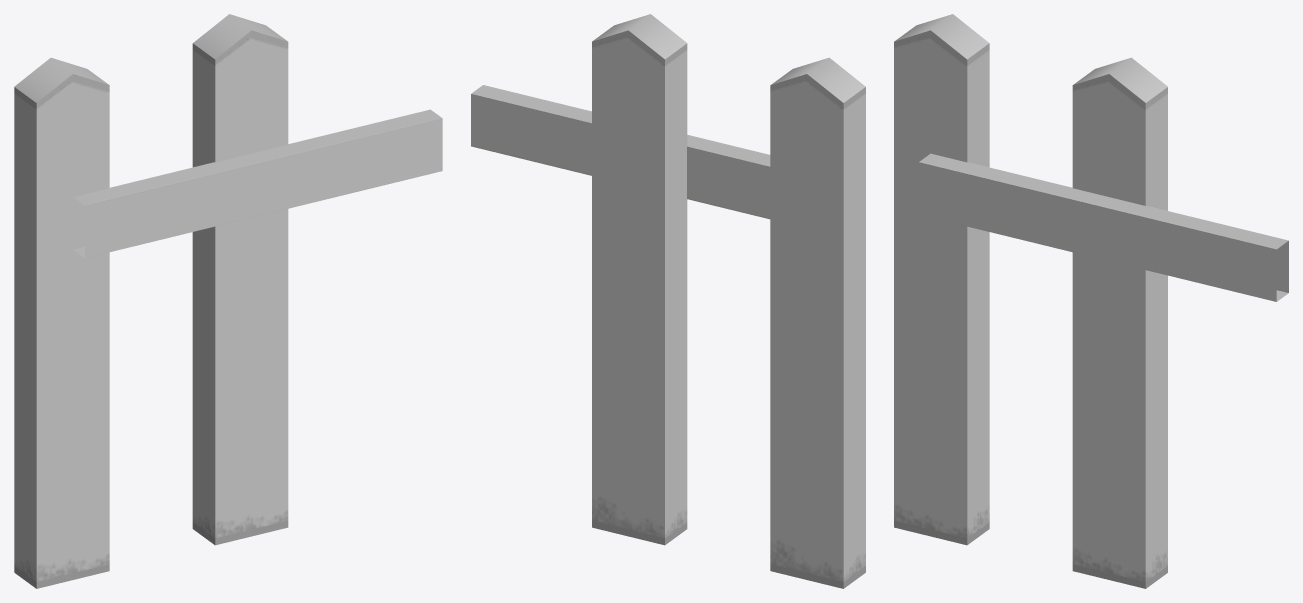
File: city_white_picket_fence_02.glb
3 views of the same model, side by side, from view 1: azimuth 30°, elevation 25°; view 2: azimuth 150°, elevation 25°; view 3: azimuth 330°, elevation 25° (orthographic).
Visible parts, largest first — view 1: polySurface215; view 2: polySurface215; view 3: polySurface215.
Boxes of the visible parts, x1,y1,x2,y2 form: polySurface215: (14, 14, 442, 588); polySurface215: (471, 14, 865, 588); polySurface215: (894, 14, 1288, 588).
Bounding box in the file's own units: 0.7716 × 0.9462 × 0.1155.
1 material, 1 textured.
